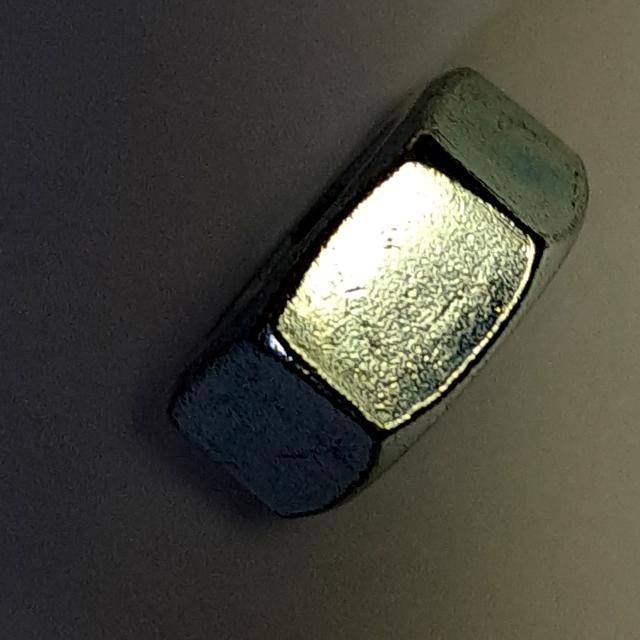Side_Excellent: (141, 53, 605, 540)
